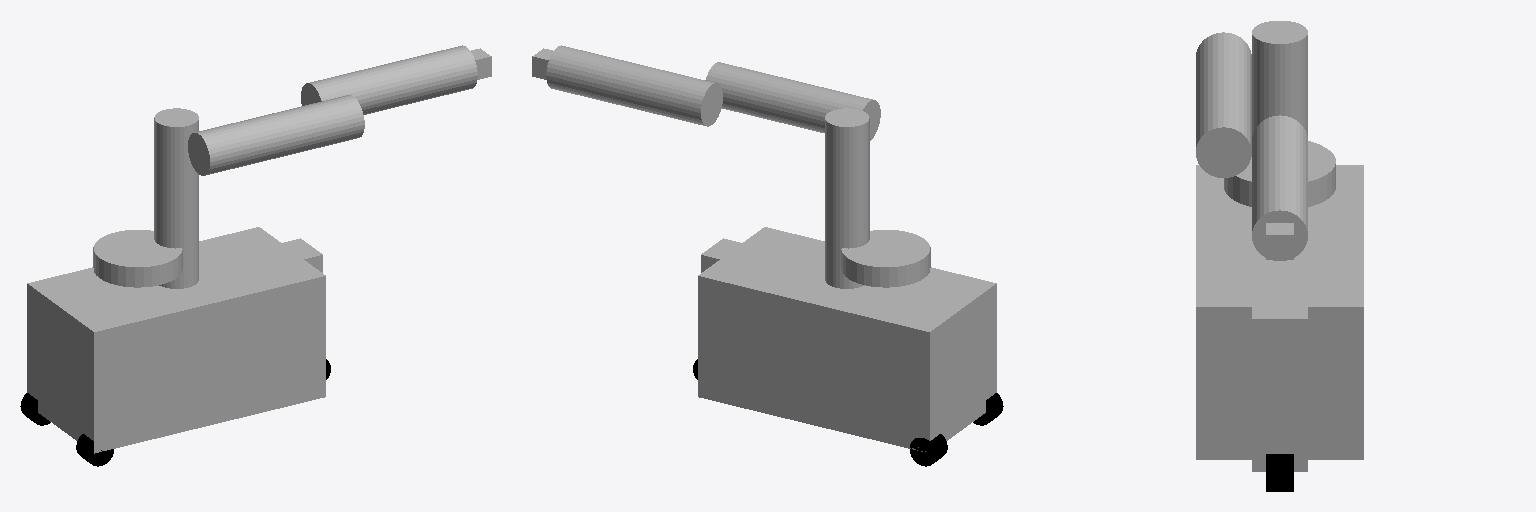
robot.urdf — cougarbot:
<?xml version="1.0"?>
<robot name="cougarbot">
  <link name="world"/>
  <joint name="base_fixed" type="fixed">
	<parent link="world"/>
    <child link="base_link"/>
  </joint>
  <link name="base_link">
    <visual>
      <geometry>
        <box size="0.6 0.3 0.3"/>
      </geometry>
      <material name="silver">
        <color rgba="0.75 0.75 0.75 1"/>
      </material>
    </visual>
    <collision>
      <geometry>
        <box size="0.6 0.3 0.3"/>
      </geometry>
    </collision>
    <inertial>
      <mass value="1.0"/>
      <inertia ixx="0.015" iyy="0.0375" izz="0.0375" ixy="0" ixz="0" iyz="0"/>
    </inertial>
  </link>

  <link name="front_caster">
    <visual>
      <geometry>
        <box size="0.1 0.1 0.3"/>
      </geometry>
      <material name="silver"/>
    </visual>
    <collision>
      <geometry>
        <box size="0.1 0.1 0.3"/>
      </geometry>
    </collision>
    <inertial>
      <mass value="0.1"/>
      <inertia ixx="0.00083" iyy="0.00083" izz="0.000167" ixy="0" ixz="0" iyz="0"/>
    </inertial>
  </link>

  <joint name="front_caster_joint" type="continuous">
    <axis xyz="0 0 1"/>
    <parent link="base_link"/>
    <child link="front_caster"/>
    <origin rpy="0 0 0" xyz="0.3 0 0"/>
  </joint>

  <link name="front_wheel">
    <visual>
      <geometry>
        <cylinder length="0.05" radius="0.035"/>
      </geometry>
      <material name="black"/>
    </visual>
    <collision>
      <geometry>
        <cylinder length="0.05" radius="0.035"/>
      </geometry>
    </collision>
    <inertial>
      <mass value="0.1"/>
      <inertia ixx="5.1458e-5" iyy="5.1458e-5" izz="6.125e-5" ixy="0" ixz="0" iyz="0"/>
    </inertial>
  </link>

  <joint name="front_wheel_joint" type="continuous">
    <axis xyz="0 0 1"/>
    <parent link="front_caster"/>
    <child link="front_wheel"/>
    <origin rpy="-1.5708 0 0" xyz="0.05 0 -.15"/>
  </joint>

  <link name="right_wheel">
    <visual>
      <geometry>
        <cylinder length="0.05" radius="0.035"/>
      </geometry>
      <material name="black">
        <color rgba="0 0 0 1"/>
      </material>
    </visual>
    <collision>
      <geometry>
        <cylinder length="0.05" radius="0.035"/>
      </geometry>
    </collision>
    <inertial>
      <mass value="0.1"/>
      <inertia ixx="5.1458e-5" iyy="5.1458e-5" izz="6.125e-5" ixy="0" ixz="0" iyz="0"/>
    </inertial>
  </link>

  <joint name="right_wheel_joint" type="continuous">
    <axis xyz="0 0 1"/>
    <parent link="base_link"/>
    <child link="right_wheel"/>
    <origin rpy="-1.5708 0 0" xyz="-0.2825 -0.125 -.15"/>
  </joint>

  <link name="left_wheel">
    <visual>
      <geometry>
        <cylinder length="0.05" radius="0.035"/>
      </geometry>
      <material name="black"/>
    </visual>
    <collision>
      <geometry>
        <cylinder length="0.05" radius="0.035"/>
      </geometry>
    </collision>
    <inertial>
      <mass value="0.1"/>
      <inertia ixx="5.1458e-5" iyy="5.1458e-5" izz="6.125e-5" ixy="0" ixz="0" iyz="0"/>
    </inertial>
  </link>

  <joint name="left_wheel_joint" type="continuous">
    <axis xyz="0 0 1"/>
    <parent link="base_link"/>
    <child link="left_wheel"/>
    <origin rpy="-1.5708 0 0" xyz="-0.2825 0.125 -.15"/>
  </joint>

  

  <gazebo>
    <plugin name="differential_drive_controller" filename="libgazebo_ros_diff_drive.so">
      <leftJoint>right_wheel_joint</leftJoint>
      <rightJoint>left_wheel_joint</rightJoint>
      <robotBaseFrame>base_link</robotBaseFrame>
      <wheelSeparation>0.25</wheelSeparation>
      <wheelDiameter>0.07</wheelDiameter>
      <publishWheelJointState>true</publishWheelJointState>
    </plugin>
  </gazebo>

  
  
  
  <link name="arm_base_link">
    <visual>
      <geometry>
        <cylinder length="0.05" radius="0.1"/>
      </geometry>
      <material name="silver">
        <color rgba="0.75 0.75 0.75 1"/>
      </material>
      <origin rpy="0 0 0" xyz="0 0 0.025"/>
    </visual>
    <collision>
      <geometry>
        <cylinder length="0.05" radius="0.1"/>
      </geometry>
      <origin rpy="0 0 0" xyz="0 0 0.025"/>
    </collision>
    <inertial>
      <mass value="1.0"/>
      <origin rpy="0 0 0" xyz="0 0 0.025"/>
      <inertia ixx="0.0027" iyy="0.0027" izz="0.005" ixy="0" ixz="0" iyz="0"/>
    </inertial>
  </link>
  <joint name="fixed" type="fixed">
	<origin xyz="-0.1 0 0.2" rpy="0 0 0"/>
    <parent link="base_link"/>
    <child link="arm_base_link"/>
  </joint>
  <link name="torso">
    <visual>
      <geometry>
        <cylinder length="0.5" radius="0.05"/>
      </geometry>
      <material name="silver">
        <color rgba="0.75 0.75 0.75 1"/>
      </material>
      <origin rpy="0 0 0" xyz="0 0 0.25"/>
    </visual>
    <collision>
      <geometry>
        <cylinder length="0.5" radius="0.05"/>
      </geometry>
      <origin rpy="0 0 0" xyz="0 0 0.25"/>
    </collision>
    <inertial>
      <mass value="1.0"/>
      <origin rpy="0 0 0" xyz="0 0 0.25"/>
      <inertia ixx="0.02146" iyy="0.02146" izz="0.00125" ixy="0" ixz="0" iyz="0"/>
    </inertial>
  </link>
  <joint name="hip" type="continuous">
    <axis xyz="0 0 1"/>
    <parent link="base_link"/>
    <child link="torso"/>
    <origin rpy="0 0 0" xyz="0.0 0.0 0.05"/>
  </joint>
  <link name="upper_arm">
    <visual>
      <geometry>
        <cylinder length="0.4" radius="0.05"/>
      </geometry>
      <material name="silver"/>
      <origin rpy="0 0 0" xyz="0 0 0.2"/>
    </visual>
    <collision>
      <geometry>
        <cylinder length="0.4" radius="0.05"/>
      </geometry>
      <origin rpy="0 0 0" xyz="0 0 0.2"/>
    </collision>
    <inertial>
      <mass value="1.0"/>
      <origin rpy="0 0 0" xyz="0 0 0.2"/>
      <inertia ixx="0.01396" iyy="0.01396" izz="0.00125" ixy="0" ixz="0" iyz="0"/>
    </inertial>
  </link>
  <joint name="shoulder" type="continuous">
    <axis xyz="0 1 0"/>
    <parent link="torso"/>
    <child link="upper_arm"/>
    <origin rpy="0 1.5708 0" xyz="0.0 -0.1 0.45"/>
  </joint>
  <link name="lower_arm">
    <visual>
      <geometry>
        <cylinder length="0.4" radius="0.05"/>
      </geometry>
      <material name="silver"/>
      <origin rpy="0 0 0" xyz="0 0 0.2"/>
    </visual>
    <collision>
      <geometry>
        <cylinder length="0.4" radius="0.05"/>
      </geometry>
      <origin rpy="0 0 0" xyz="0 0 0.2"/>
    </collision>
    <inertial>
      <mass value="1.0"/>
      <origin rpy="0 0 0" xyz="0 0 0.2"/>
      <inertia ixx="0.01396" iyy="0.01396" izz="0.00125" ixy="0" ixz="0" iyz="0"/>
    </inertial>
  </link>
  <joint name="elbow" type="continuous">
    <axis xyz="0 1 0"/>
    <parent link="upper_arm"/>
    <child link="lower_arm"/>
    <origin rpy="0 0 0" xyz="0.0 0.1 0.35"/>
  </joint>
  <link name="hand">
    <visual>
      <geometry>
        <box size="0.05 0.05 0.05"/>
      </geometry>
      <material name="silver"/>
    </visual>
    <collision>
      <geometry>
        <box size="0.05 0.05 0.05"/>
      </geometry>
    </collision>
    <inertial>
      <mass value="1.0"/>
      <inertia ixx="0.00042" iyy="0.00042" izz="0.00042" ixy="0" ixz="0" iyz="0"/>
    </inertial>
  </link>
  <joint name="wrist" type="continuous">
    <axis xyz="0 1 0"/>
    <parent link="lower_arm"/>
    <child link="hand"/>
    <origin rpy="0 0 0" xyz="0.0 0.0 0.425"/>
  </joint>
  
  <gazebo>
    <plugin name="gazebo_ros_control" filename="libgazebo_ros_control.so">
      <robotNamespace>/cougarbot</robotNamespace>
      <robotSimType>gazebo_ros_control/DefaultRobotHWSim</robotSimType>
    </plugin>
  </gazebo>
  <gazebo>
    <plugin name="joint_state_publisher" filename="libgazebo_ros_joint_state_publisher.so">
      <jointName>front_caster_joint, front_wheel_joint, hip, shoulder, elbow, wrist</jointName>
    </plugin>
  </gazebo>
  
  <transmission name="tran0">
    <type>transmission_interface/SimpleTransmission</type>
    <joint name="hip">
      <hardwareInterface>hardware_interface/PositionJointInterface</hardwareInterface>
    </joint>
    <actuator name="motor0">
      <!--hardwareInterface>hardware_interface/PositionJointInterface</hardwareInterface-->
      <mechanicalReduction>1</mechanicalReduction>
    </actuator>
  </transmission>
  <transmission name="tran1">
    <type>transmission_interface/SimpleTransmission</type>
    <joint name="shoulder">
      <hardwareInterface>hardware_interface/PositionJointInterface</hardwareInterface>
    </joint>
    <actuator name="motor1">
      <!--hardwareInterface>hardware_interface/EffortJointInterface</hardwareInterface-->
      <mechanicalReduction>1</mechanicalReduction>
    </actuator>
  </transmission>
  <transmission name="tran2">
    <type>transmission_interface/SimpleTransmission</type>
    <joint name="elbow">
      <hardwareInterface>hardware_interface/PositionJointInterface</hardwareInterface>
    </joint>
    <actuator name="motor2">
      <!--hardwareInterface>hardware_interface/EffortJointInterface</hardwareInterface-->
      <mechanicalReduction>1</mechanicalReduction>
    </actuator>
  </transmission>
  <transmission name="tran3">
    <type>transmission_interface/SimpleTransmission</type>
    <joint name="wrist">
      <hardwareInterface>hardware_interface/PositionJointInterface</hardwareInterface>
    </joint>
    <actuator name="motor3">
      <!--hardwareInterface>hardware_interface/EffortJointInterface</hardwareInterface-->
      <mechanicalReduction>1</mechanicalReduction>
    </actuator>
  </transmission>
</robot>

--- Render facts (derived) ---
3 views of the same robot in one strip: view 1: azimuth 30°, elevation 25°; view 2: azimuth 150°, elevation 25°; view 3: azimuth 270°, elevation 25° (orthographic).
Model cougarbot with 11 links and 10 joints (8 continuous, 2 fixed), rooted at world, posed every joint at zero.
Links seen in each view (by area): view 1: base_link, upper_arm, torso, lower_arm, arm_base_link, right_wheel, front_caster; view 2: base_link, lower_arm, torso, upper_arm, arm_base_link, left_wheel, front_caster; view 3: base_link, front_caster, upper_arm, lower_arm, torso, arm_base_link, front_wheel, hand.
Boxes of the visible links, bbox=[...] form: base_link: bbox=[27, 227, 325, 453]; upper_arm: bbox=[188, 95, 364, 175]; torso: bbox=[154, 108, 198, 288]; lower_arm: bbox=[301, 45, 477, 114]; arm_base_link: bbox=[93, 230, 182, 287]; right_wheel: bbox=[76, 434, 113, 466]; front_caster: bbox=[282, 238, 322, 272]; base_link: bbox=[698, 227, 996, 451]; lower_arm: bbox=[546, 45, 722, 126]; torso: bbox=[825, 108, 869, 288]; upper_arm: bbox=[706, 62, 880, 140]; arm_base_link: bbox=[841, 230, 930, 287]; left_wheel: bbox=[910, 434, 947, 466]; front_caster: bbox=[701, 238, 741, 272]; base_link: bbox=[1196, 165, 1363, 459]; front_caster: bbox=[1252, 295, 1307, 471]; upper_arm: bbox=[1196, 32, 1251, 177]; lower_arm: bbox=[1252, 115, 1307, 260]; torso: bbox=[1252, 21, 1307, 135]; arm_base_link: bbox=[1224, 141, 1335, 206]; front_wheel: bbox=[1266, 454, 1293, 491]; hand: bbox=[1266, 223, 1293, 259].
Bounding box of the posed robot: 1.12 × 0.3 × 0.735 m (x, y, z).
Geometry: primitives only (box / cylinder / sphere), no mesh files.